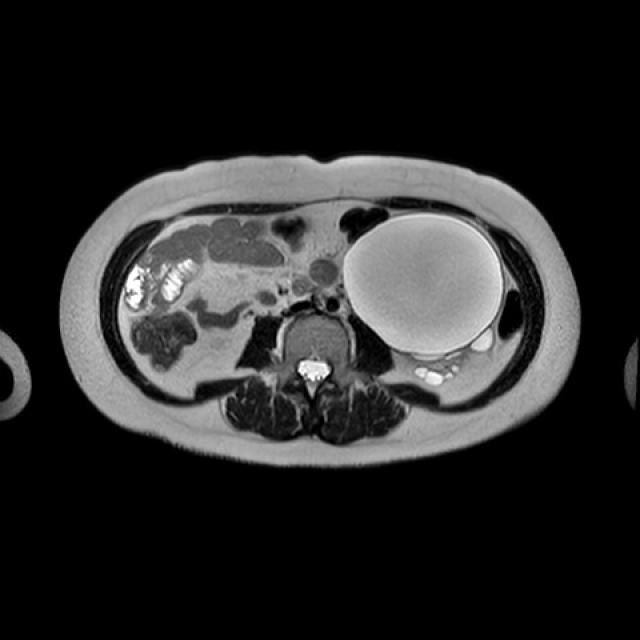sol: (340, 211, 505, 386)
